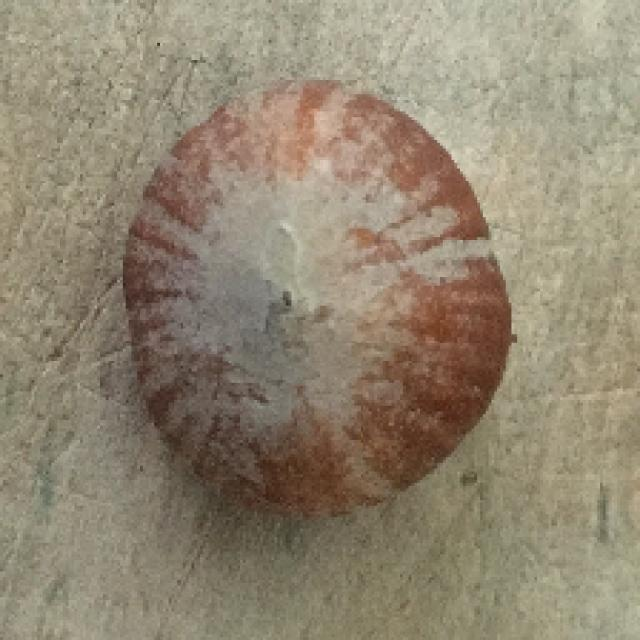QualityHazelnut: (118, 79, 515, 520)
